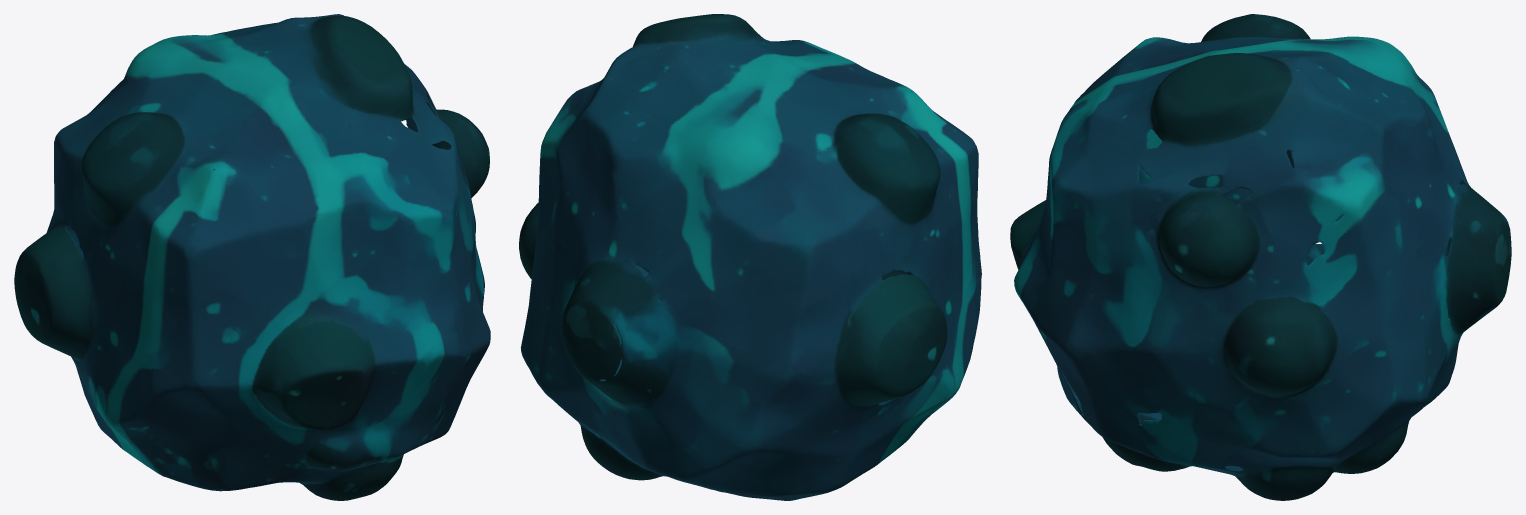
File: mat_abyssal.glb
3 views of the same model, side by side, from view 1: azimuth 30°, elevation 25°; view 2: azimuth 150°, elevation 25°; view 3: azimuth 270°, elevation 25° (orthographic).
Parts seen in each view (by area): view 1: geometry_0; view 2: geometry_0; view 3: geometry_0.
Part boxes in pixels (x1,y1,x2,y2): geometry_0: (14,14,490,500); geometry_0: (519,14,981,500); geometry_0: (1010,14,1511,500).
Bounding box in the file's own units: 0.6185 × 0.6139 × 0.6414.
Materials: 1 (1 with a texture image).
